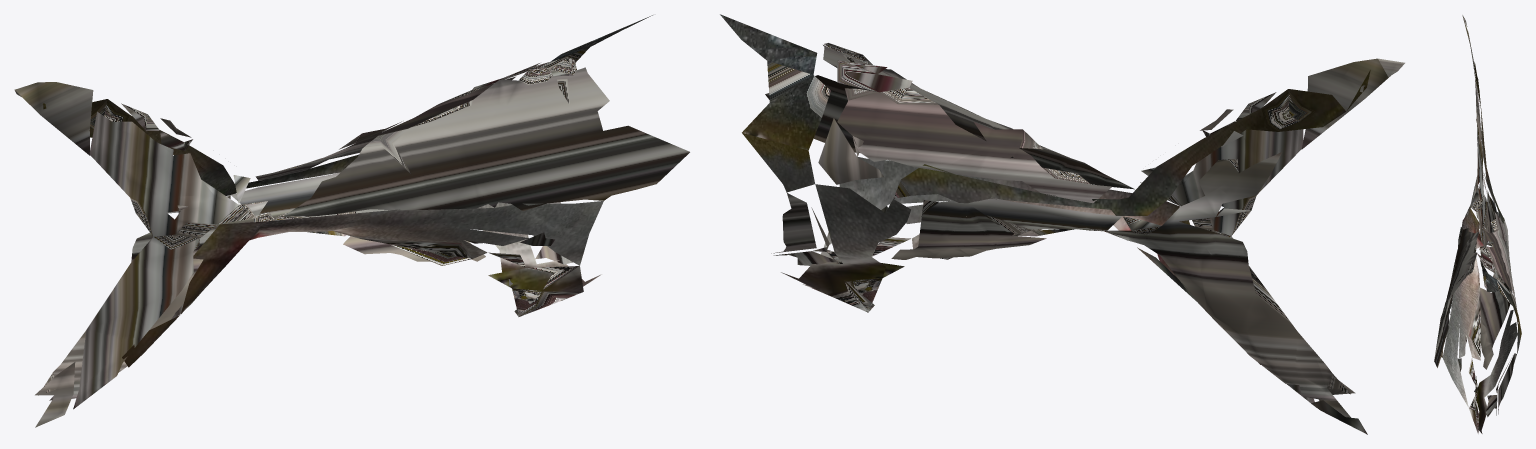
File: amberjack_b.glb
The picture shows the model from 3 angles, left to right: view 1: azimuth 30°, elevation 25°; view 2: azimuth 150°, elevation 25°; view 3: azimuth 270°, elevation 25°; orthographic projection. The views are drawn at different scales.
Visible parts, largest first — view 1: amberjack_b; view 2: amberjack_b; view 3: amberjack_b.
Boxes of the visible parts, x1,y1,x2,y2 form: amberjack_b: (14,15,689,427); amberjack_b: (720,14,1404,434); amberjack_b: (1434,15,1521,433).
Bounding box in the file's own units: 0.6099 × 0.3212 × 0.1064.
Materials: 1 (1 with a texture image).
